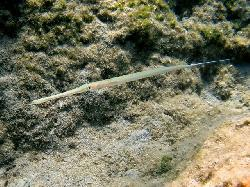Fistularia commersonii: (11, 51, 216, 111)
